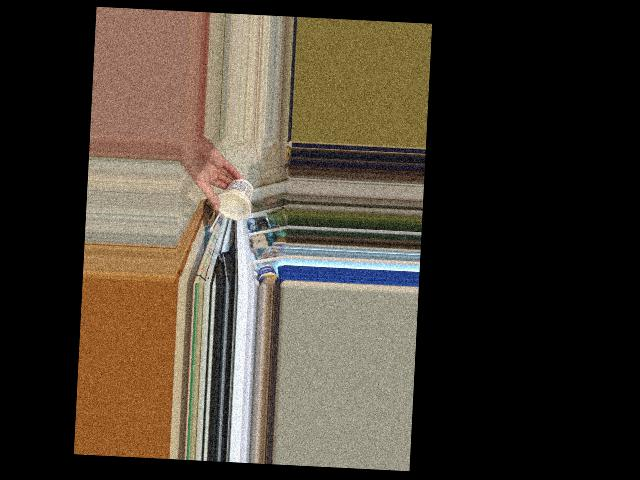cotage: (216, 176, 250, 221)
